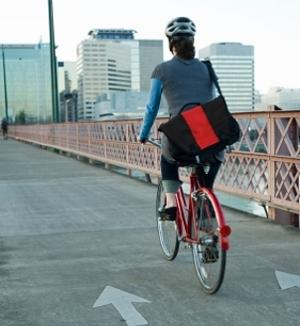person: (138, 17, 226, 263)
